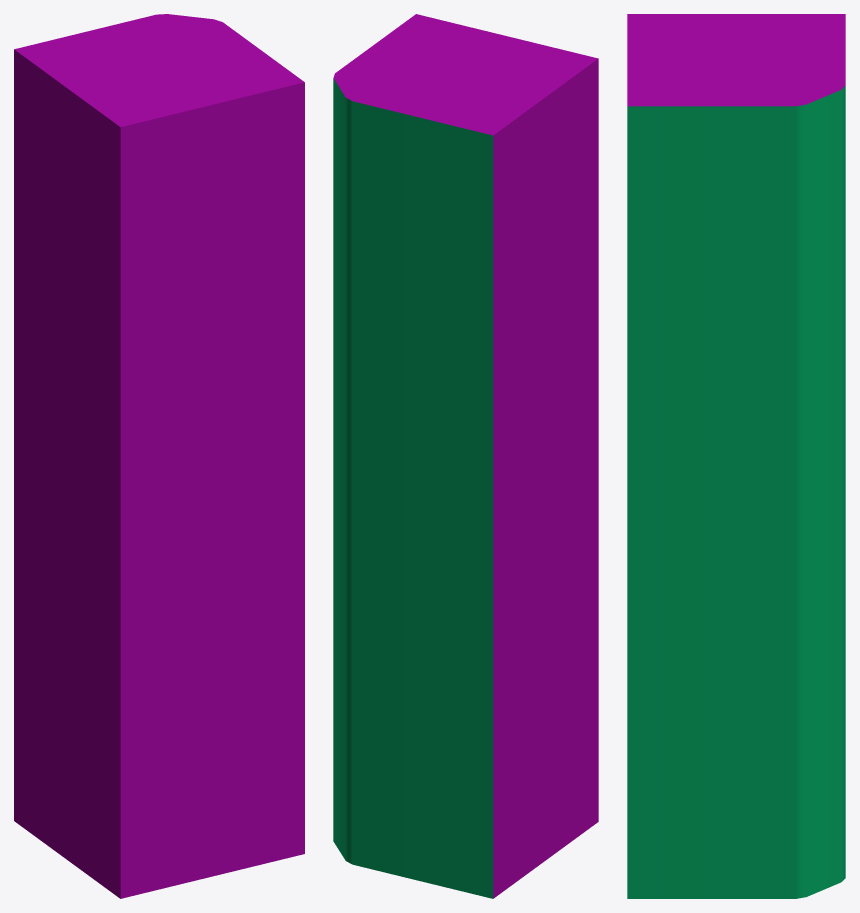
The model's file is Wall_GW_Corner_Outside_Top.fbx.
The picture shows the model from 3 angles, left to right: view 1: azimuth 30°, elevation 25°; view 2: azimuth 150°, elevation 25°; view 3: azimuth 270°, elevation 25°; orthographic projection. The views are drawn at different scales.
Parts seen in each view (by area): view 1: Wall_GW_Corner_Outside_Top, Wall_GW_Corner_Outside; view 2: Wall_GW_Corner_Outside_Top, Wall_GW_Corner_Outside; view 3: Wall_GW_Corner_Outside_Top, Wall_GW_Corner_Outside.
Part boxes in pixels (x1,y1,x2,y2): Wall_GW_Corner_Outside_Top: (14,14,304,512); Wall_GW_Corner_Outside: (14,435,304,898); Wall_GW_Corner_Outside_Top: (333,14,598,516); Wall_GW_Corner_Outside: (333,440,598,898); Wall_GW_Corner_Outside_Top: (627,14,845,502); Wall_GW_Corner_Outside: (627,482,845,898).
Size of the model in its own units: 50 by 200 by 50.
